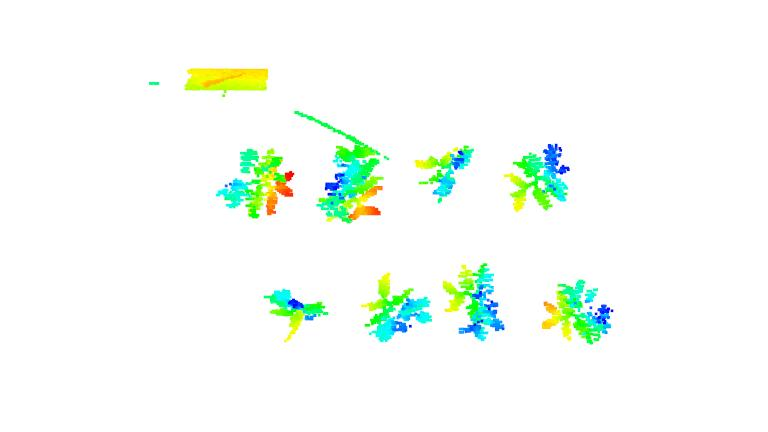chickpea: (216, 146, 296, 220), (318, 140, 384, 225), (440, 261, 508, 343), (362, 272, 438, 344), (537, 277, 615, 345), (502, 141, 574, 214), (414, 143, 474, 204), (262, 286, 329, 339)
